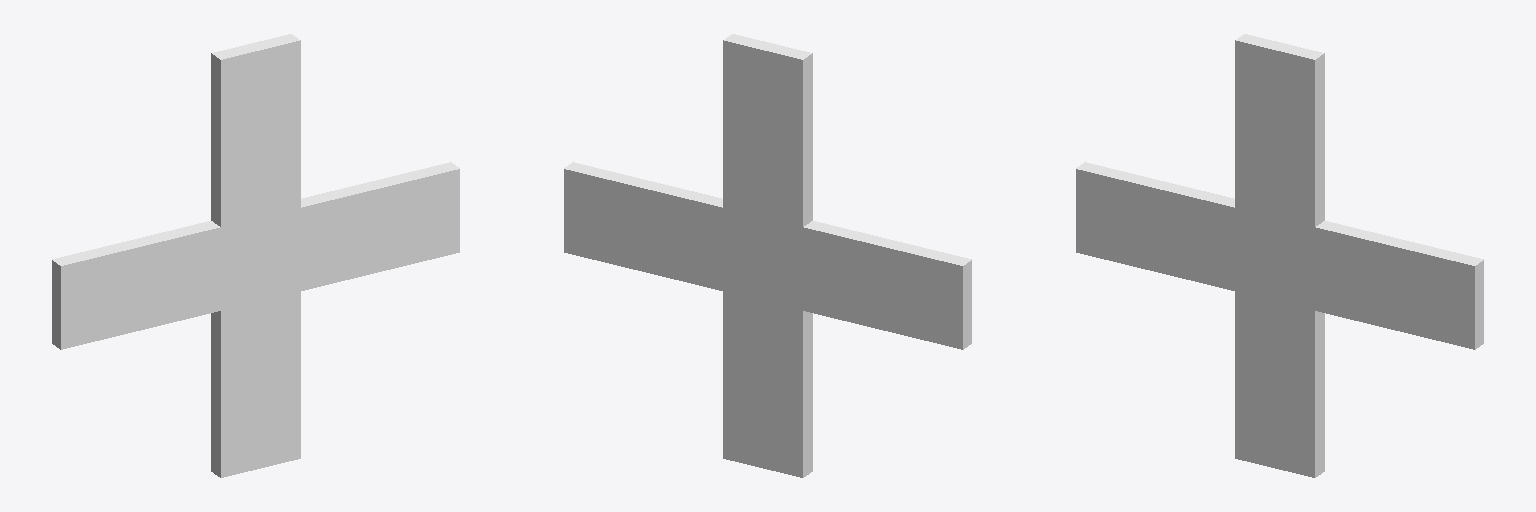
Rendered from close.obj.
The picture shows the model from 3 angles: view 1: azimuth 30°, elevation 25°; view 2: azimuth 150°, elevation 25°; view 3: azimuth 330°, elevation 25°; orthographic projection.
Bounding box in the file's own units: 25 × 25 × 1.